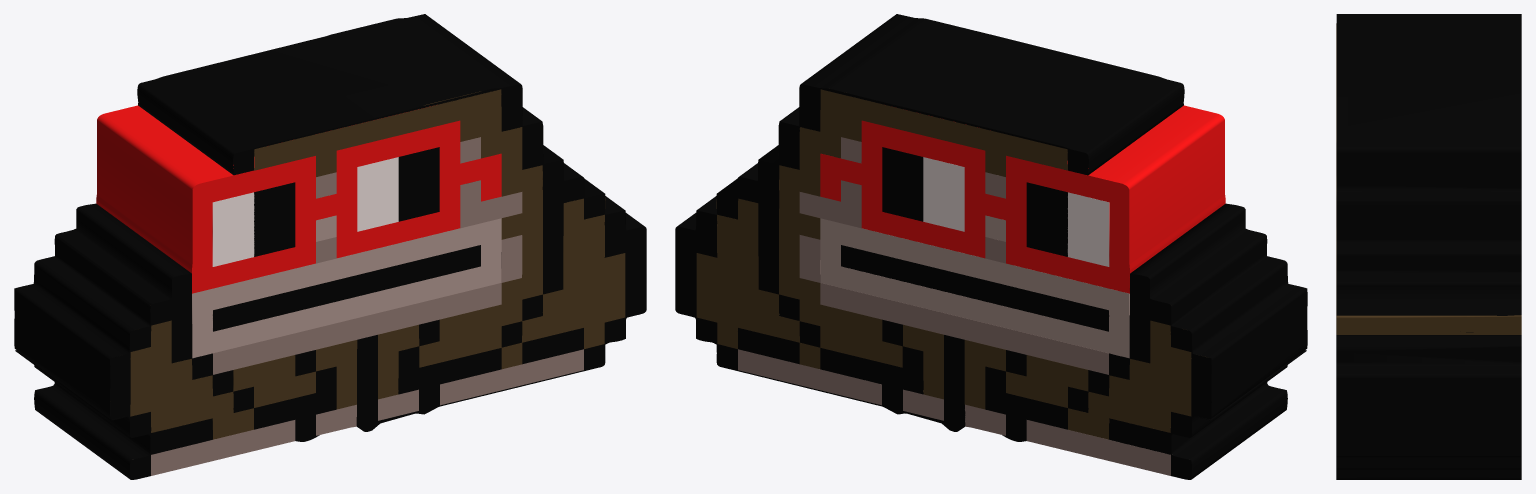
The model's file is Toadz_5640.glb.
3 views of the same model, side by side, from view 1: azimuth 30°, elevation 25°; view 2: azimuth 150°, elevation 25°; view 3: azimuth 270°, elevation 25° (orthographic). The views are drawn at different scales.
Visible parts, largest first — view 1: Curve; view 2: Curve; view 3: Curve.
Part boxes in pixels (box(x1,y1,x2,y2)): Curve: box(14, 14, 646, 479); Curve: box(675, 14, 1307, 479); Curve: box(1336, 14, 1521, 479).
Size of the model in its own units: 3.24 by 1.8 by 1.
